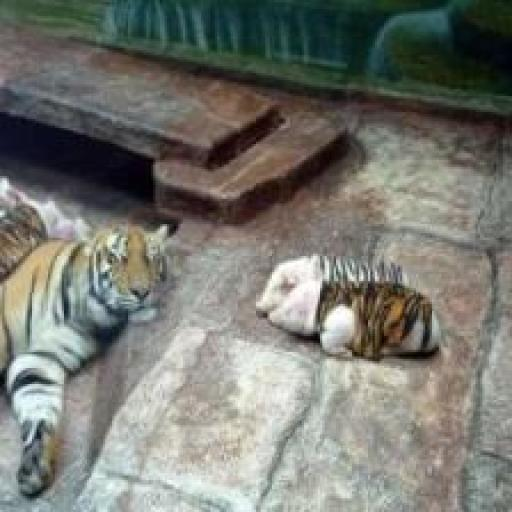Tiger: (0, 219, 189, 503)
